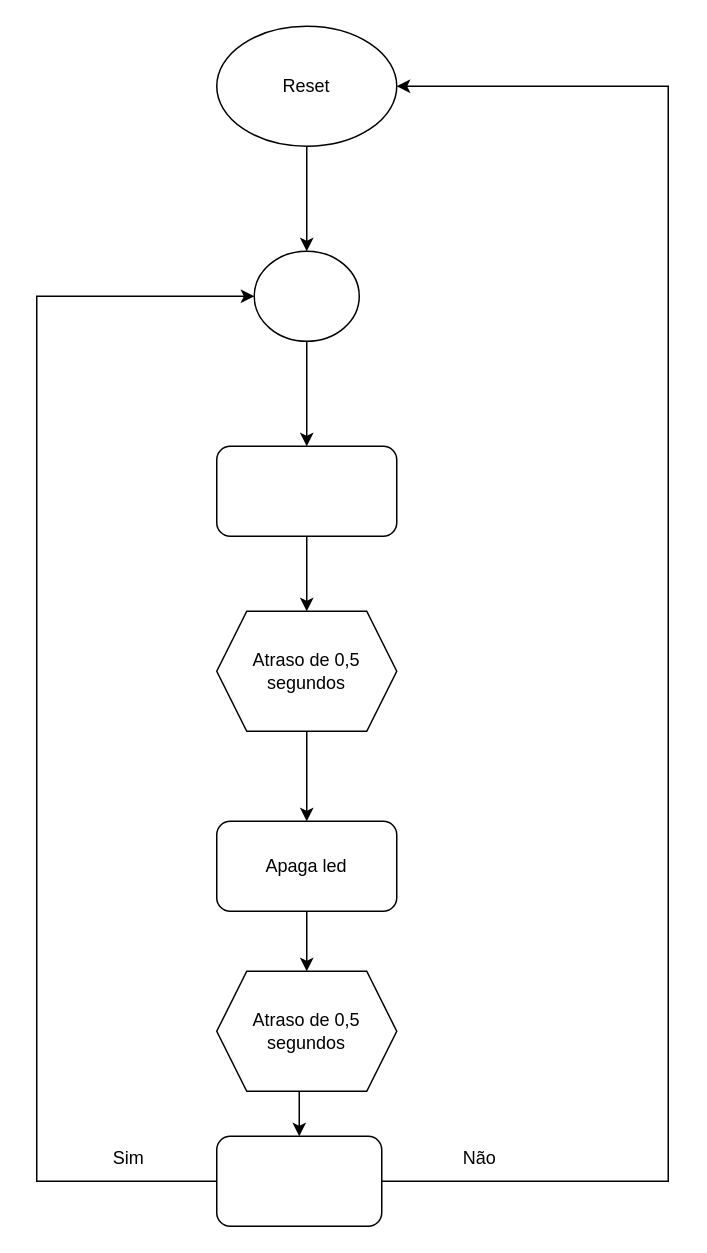
The diagram is 707 pixels wide and 1253 high, and some of its shapes have lost their labels. Each missing label, with the centre of its shape:
"Botão ainda está pressionado?" goes at point (298, 1180).
"Liga led" goes at point (306, 490).
